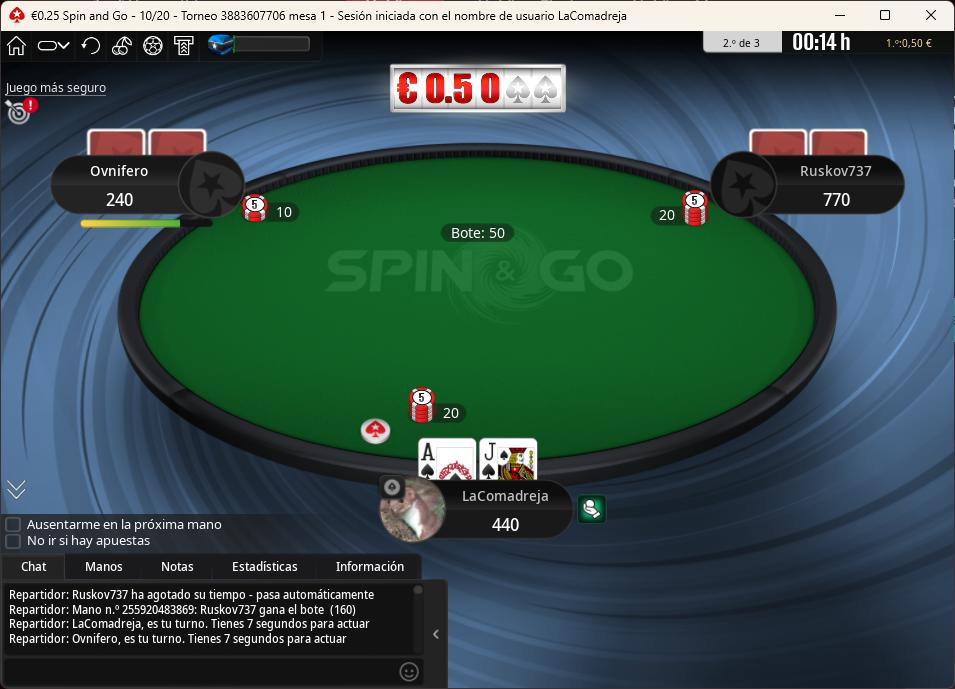Dealer: (360, 417, 393, 445)
HiddenCards: (82, 131, 208, 161), (751, 131, 877, 160)
Player: (48, 151, 243, 216), (717, 151, 911, 216)
PlayerBet: (645, 190, 709, 232), (242, 194, 307, 229)
PlayerChips: (821, 188, 858, 213), (104, 184, 137, 211)
Pot: (440, 222, 516, 244)
PrincipalBet: (406, 385, 471, 426)
PrincipalCards: (419, 437, 548, 486)
PrincipalCards1: (413, 436, 479, 483)
PrincipalCards2: (479, 436, 543, 483)
PrincipalPlayer: (371, 470, 568, 539)
SmallBigBlind: (129, 3, 179, 29)
